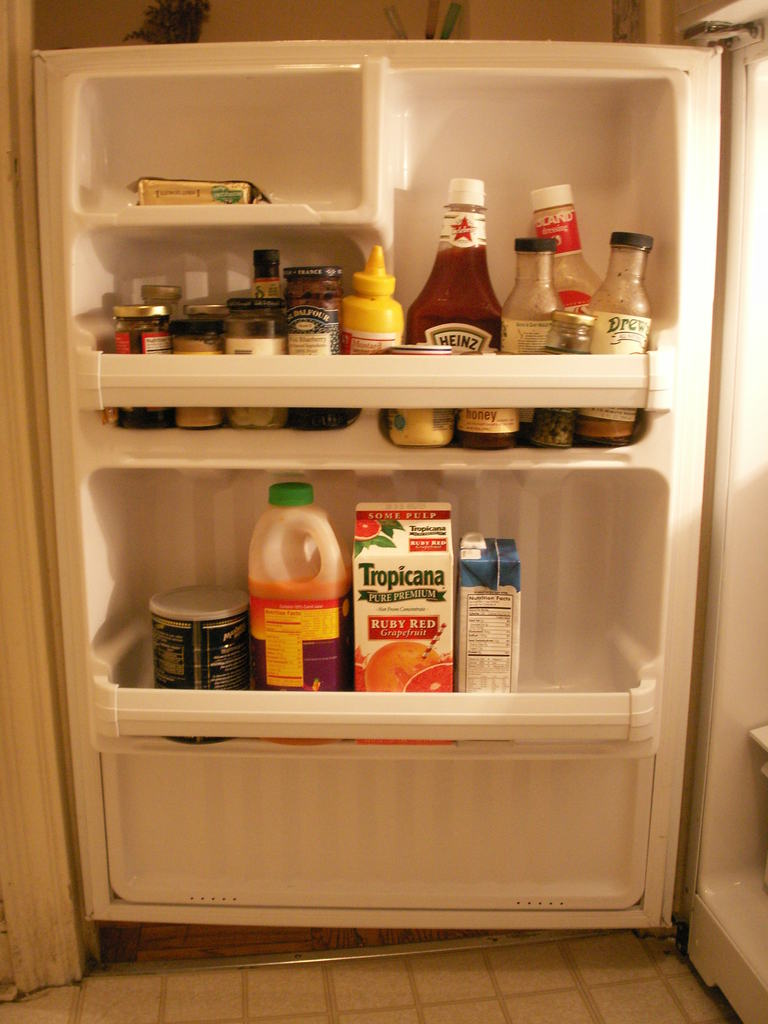refrigerator door: (53, 78, 677, 902)
